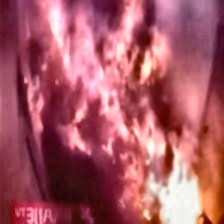fire: (0, 2, 223, 217)
